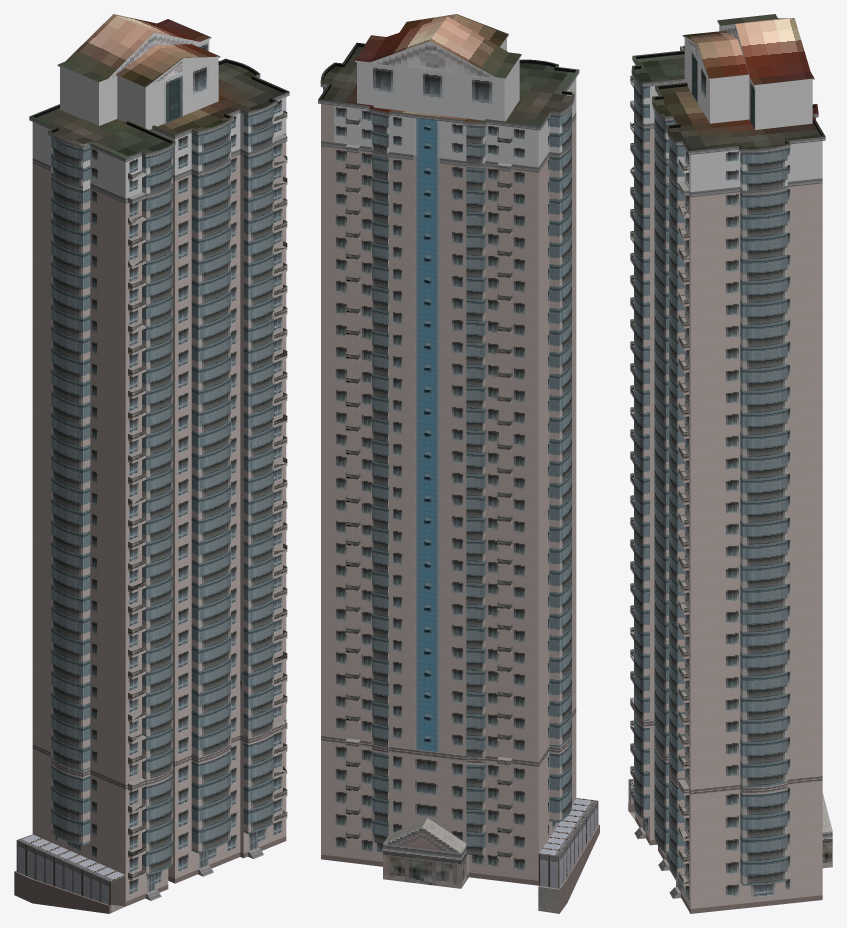
File: HPDPKZ_lubanlu168nong9hao.dae
3 views of the same model, side by side, from view 1: azimuth 30°, elevation 25°; view 2: azimuth 150°, elevation 25°; view 3: azimuth 270°, elevation 25° (orthographic).
Visible parts, largest first — view 1: HPDPKZ_lubanlu168nong9hao_louding, HPDPKZ_lubanlu168nong9hao_1F_101, HPDPKZ_lubanlu168nong9hao_2F_201, HPDPKZ_lubanlu168nong9hao_6F_601, HPDPKZ_lubanlu168nong9hao_5F_501, HPDPKZ_lubanlu168nong9hao_4F_401, HPDPKZ_lubanlu168nong9hao_3F_301, HPDPKZ_lubanlu168nong9hao_35F_3501, HPDPKZ_lubanlu168nong9hao_34F_3401, HPDPKZ_lubanlu168nong9hao_33F_3301, HPDPKZ_lubanlu168nong9hao_32F_3201, HPDPKZ_lubanlu168nong9hao_31F_3101 (+91 smaller); view 2: HPDPKZ_lubanlu168nong9hao_louding, HPDPKZ_lubanlu168nong9hao_1F_101, HPDPKZ_lubanlu168nong9hao_2F_201, HPDPKZ_lubanlu168nong9hao_6F_601, HPDPKZ_lubanlu168nong9hao_4F_401, HPDPKZ_lubanlu168nong9hao_3F_301, HPDPKZ_lubanlu168nong9hao_5F_501, HPDPKZ_lubanlu168nong9hao_35F_3501, HPDPKZ_lubanlu168nong9hao_33F_3301, HPDPKZ_lubanlu168nong9hao_31F_3101, HPDPKZ_lubanlu168nong9hao_32F_3201, HPDPKZ_lubanlu168nong9hao_34F_3401 (+91 smaller); view 3: HPDPKZ_lubanlu168nong9hao_louding, HPDPKZ_lubanlu168nong9hao_6F_603, HPDPKZ_lubanlu168nong9hao_1F_103, HPDPKZ_lubanlu168nong9hao_3F_303, HPDPKZ_lubanlu168nong9hao_4F_403, HPDPKZ_lubanlu168nong9hao_2F_203, HPDPKZ_lubanlu168nong9hao_5F_503, HPDPKZ_lubanlu168nong9hao_32F_3203, HPDPKZ_lubanlu168nong9hao_35F_3503, HPDPKZ_lubanlu168nong9hao_34F_3403, HPDPKZ_lubanlu168nong9hao_33F_3303, HPDPKZ_lubanlu168nong9hao_31F_3103 (+56 smaller).
Boxes of the visible parts, <box> form: HPDPKZ_lubanlu168nong9hao_louding: <box>29,14,289,162</box>; HPDPKZ_lubanlu168nong9hao_1F_101: <box>14,845,171,913</box>; HPDPKZ_lubanlu168nong9hao_2F_201: <box>16,817,172,886</box>; HPDPKZ_lubanlu168nong9hao_6F_601: <box>32,724,172,791</box>; HPDPKZ_lubanlu168nong9hao_5F_501: <box>32,750,172,813</box>; HPDPKZ_lubanlu168nong9hao_4F_401: <box>32,772,172,835</box>; HPDPKZ_lubanlu168nong9hao_3F_301: <box>32,794,172,858</box>; HPDPKZ_lubanlu168nong9hao_35F_3501: <box>32,139,172,202</box>; HPDPKZ_lubanlu168nong9hao_34F_3401: <box>32,161,172,224</box>; HPDPKZ_lubanlu168nong9hao_33F_3301: <box>32,183,172,246</box>; HPDPKZ_lubanlu168nong9hao_32F_3201: <box>32,205,172,268</box>; HPDPKZ_lubanlu168nong9hao_31F_3101: <box>32,227,172,290</box>; HPDPKZ_lubanlu168nong9hao_louding: <box>318,14,579,130</box>; HPDPKZ_lubanlu168nong9hao_1F_101: <box>466,806,599,913</box>; HPDPKZ_lubanlu168nong9hao_2F_201: <box>466,781,598,861</box>; HPDPKZ_lubanlu168nong9hao_6F_601: <box>466,687,576,767</box>; HPDPKZ_lubanlu168nong9hao_4F_401: <box>466,736,576,813</box>; HPDPKZ_lubanlu168nong9hao_3F_301: <box>466,758,576,835</box>; HPDPKZ_lubanlu168nong9hao_5F_501: <box>466,713,576,790</box>; HPDPKZ_lubanlu168nong9hao_35F_3501: <box>466,93,576,170</box>; HPDPKZ_lubanlu168nong9hao_33F_3301: <box>466,138,576,215</box>; HPDPKZ_lubanlu168nong9hao_31F_3101: <box>466,183,576,259</box>; HPDPKZ_lubanlu168nong9hao_32F_3201: <box>466,160,576,237</box>; HPDPKZ_lubanlu168nong9hao_34F_3401: <box>466,116,576,192</box>; HPDPKZ_lubanlu168nong9hao_louding: <box>631,14,825,154</box>; HPDPKZ_lubanlu168nong9hao_6F_603: <box>669,746,822,795</box>; HPDPKZ_lubanlu168nong9hao_1F_103: <box>669,871,822,913</box>; HPDPKZ_lubanlu168nong9hao_3F_303: <box>669,818,822,863</box>; HPDPKZ_lubanlu168nong9hao_4F_403: <box>669,795,822,840</box>; HPDPKZ_lubanlu168nong9hao_2F_203: <box>669,841,822,886</box>; HPDPKZ_lubanlu168nong9hao_5F_503: <box>669,773,822,818</box>; HPDPKZ_lubanlu168nong9hao_32F_3203: <box>669,217,822,262</box>; HPDPKZ_lubanlu168nong9hao_35F_3503: <box>669,150,822,195</box>; HPDPKZ_lubanlu168nong9hao_34F_3403: <box>669,172,822,217</box>; HPDPKZ_lubanlu168nong9hao_33F_3303: <box>669,195,822,240</box>; HPDPKZ_lubanlu168nong9hao_31F_3103: <box>669,240,822,285</box>.
Size of the model in its own units: 34.47 by 117 by 25.2.
Materials: 37 (37 with a texture image).
